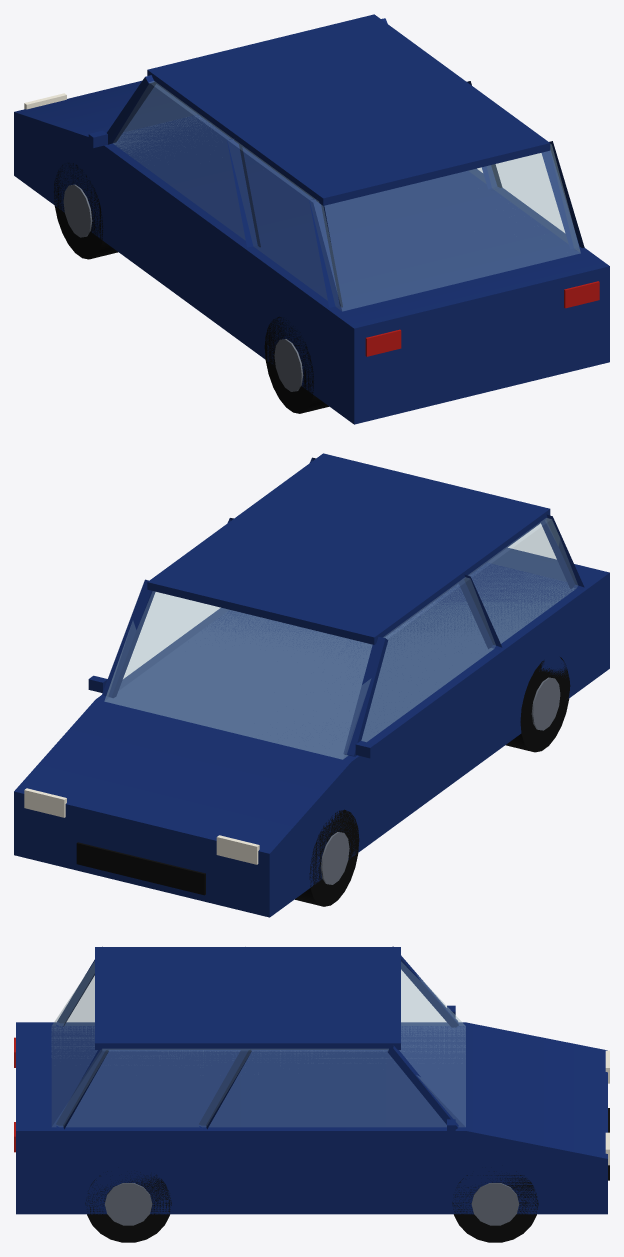
File: vehicle.car.hatchback_blue.glb
The picture shows the model from 3 angles, top to bottom: view 1: azimuth 30°, elevation 25°; view 2: azimuth 150°, elevation 25°; view 3: azimuth 270°, elevation 25°; orthographic projection. The views are drawn at different scales.
Visible parts, largest first — view 1: main__car_blue, main__glass, main__rubber, main__steel_painted, main__hazard_red; view 2: main__car_blue, main__glass, main__rubber, main__plastic_black, main__steel_painted, main__light_emitter; view 3: main__car_blue, main__glass, main__rubber, main__steel_painted.
Part boxes in pixels (x1=…): main__car_blue: x1=14, y1=14, x2=609, y2=424; main__glass: x1=113, y1=81, x2=580, y2=310; main__rubber: x1=54, y1=163, x2=328, y2=413; main__steel_painted: x1=63, y1=184, x2=303, y2=391; main__hazard_red: x1=365, y1=281, x2=599, y2=356; main__car_blue: x1=14, y1=453, x2=609, y2=917; main__glass: x1=104, y1=518, x2=577, y2=759; main__rubber: x1=295, y1=657, x2=570, y2=906; main__plastic_black: x1=76, y1=842, x2=205, y2=895; main__steel_painted: x1=320, y1=677, x2=560, y2=884; main__light_emitter: x1=24, y1=788, x2=259, y2=864; main__car_blue: x1=16, y1=946, x2=607, y2=1214; main__glass: x1=52, y1=961, x2=465, y2=1126; main__rubber: x1=85, y1=1171, x2=538, y2=1242; main__steel_painted: x1=104, y1=1183, x2=519, y2=1225.
Size of the model in its own units: 1.96 by 1.48 by 4.13.
